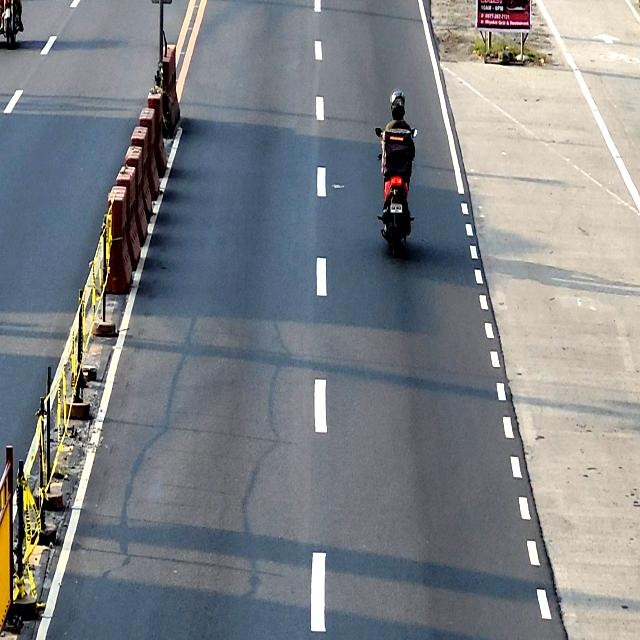License-Plate: (390, 202, 403, 214)
Motorcycle: (376, 126, 418, 258)
